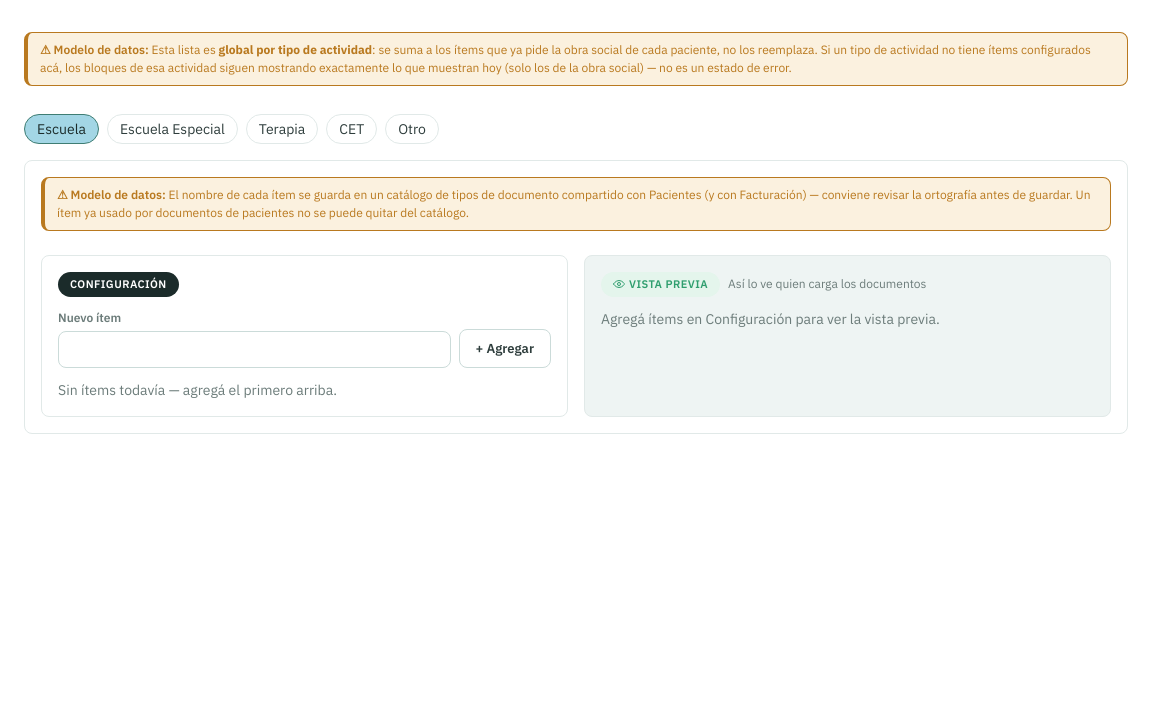
RequisitosActividadPage › alta: agregar un ítem lo persiste vía repository.actualizar con el tipo seleccionado
Type "Certificado de alumno regular" into the field labelled "Nuevo ítem" at coordinates (254, 349), box [58,330,451,368]
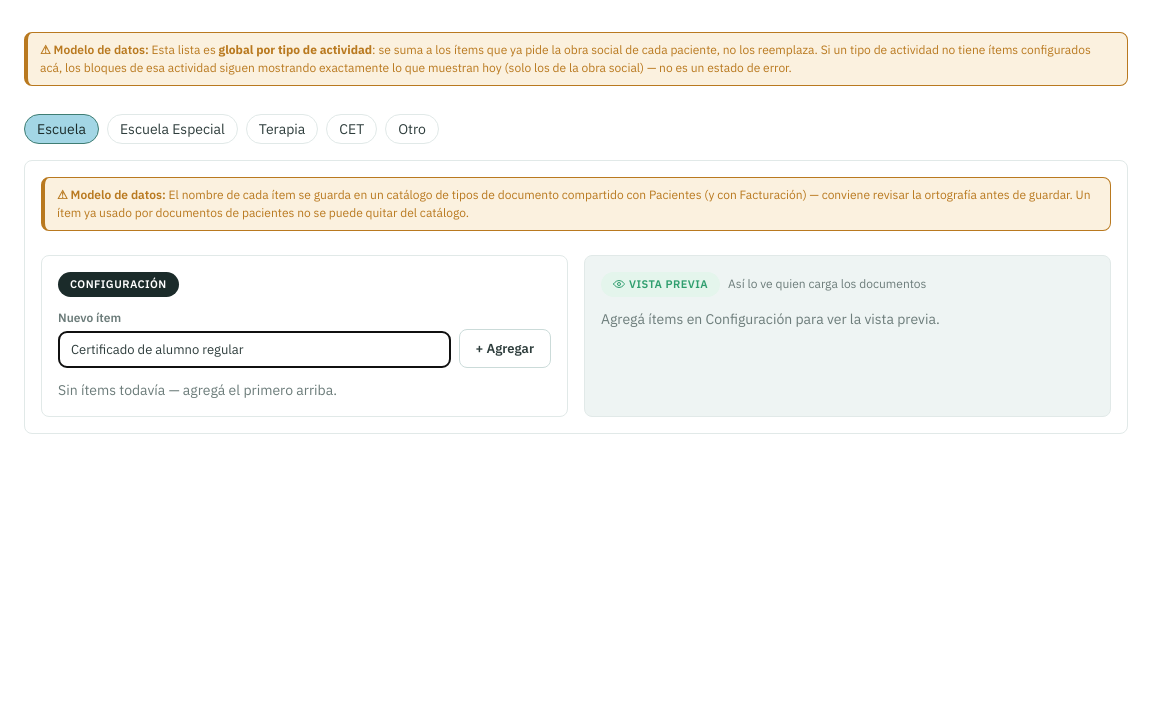
Click the button "+ Agregar" at coordinates (505, 348), box [459,328,551,368]
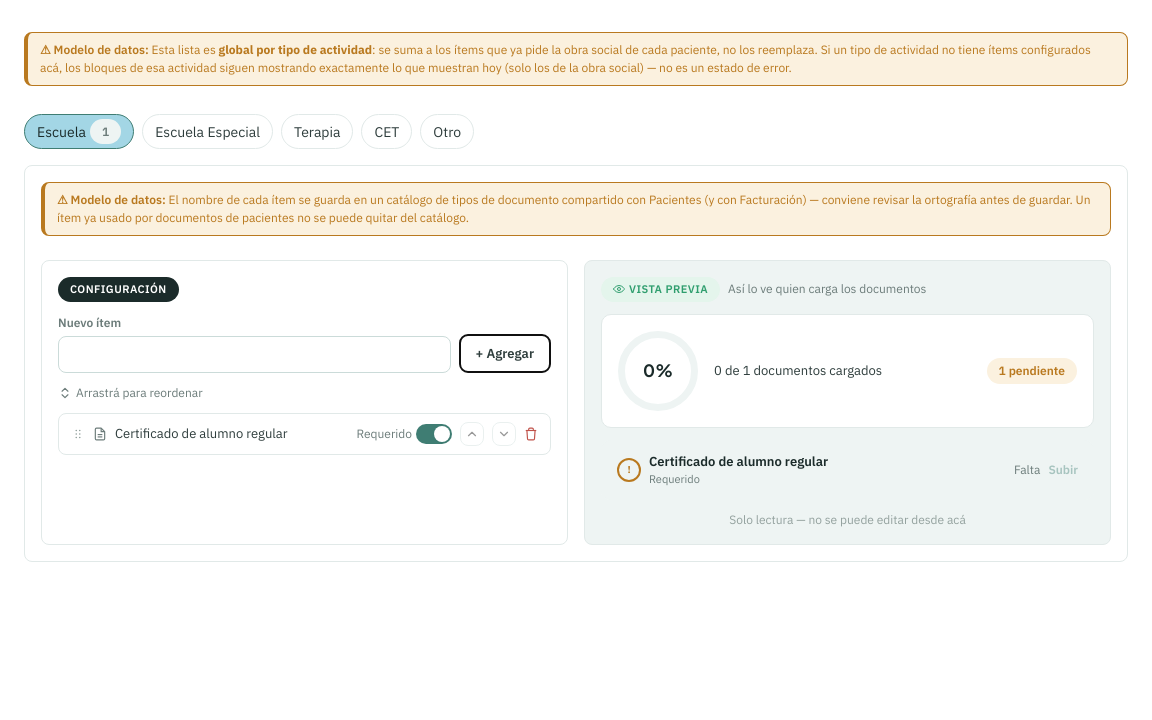
Now the text "Certificado de alumno regular" below "Arrastrá para reordenar" is shown, box [115,425,288,442]
